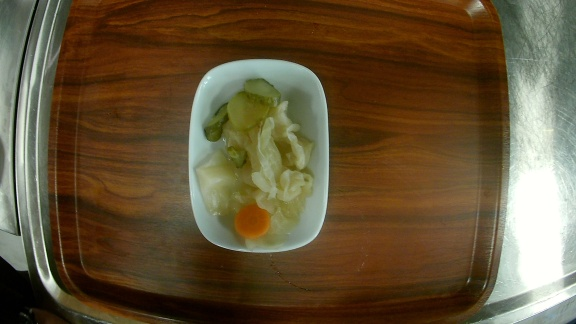tursu: (188, 59, 330, 254)
